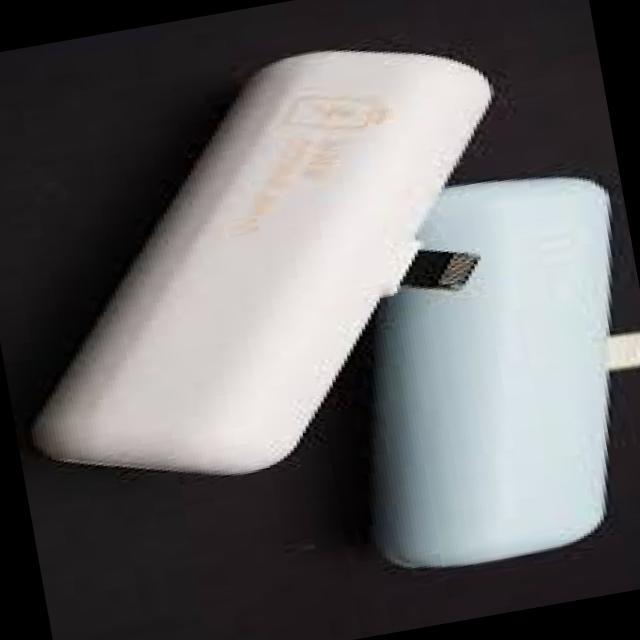portable-charger: (0, 20, 560, 510), (317, 150, 640, 583)
